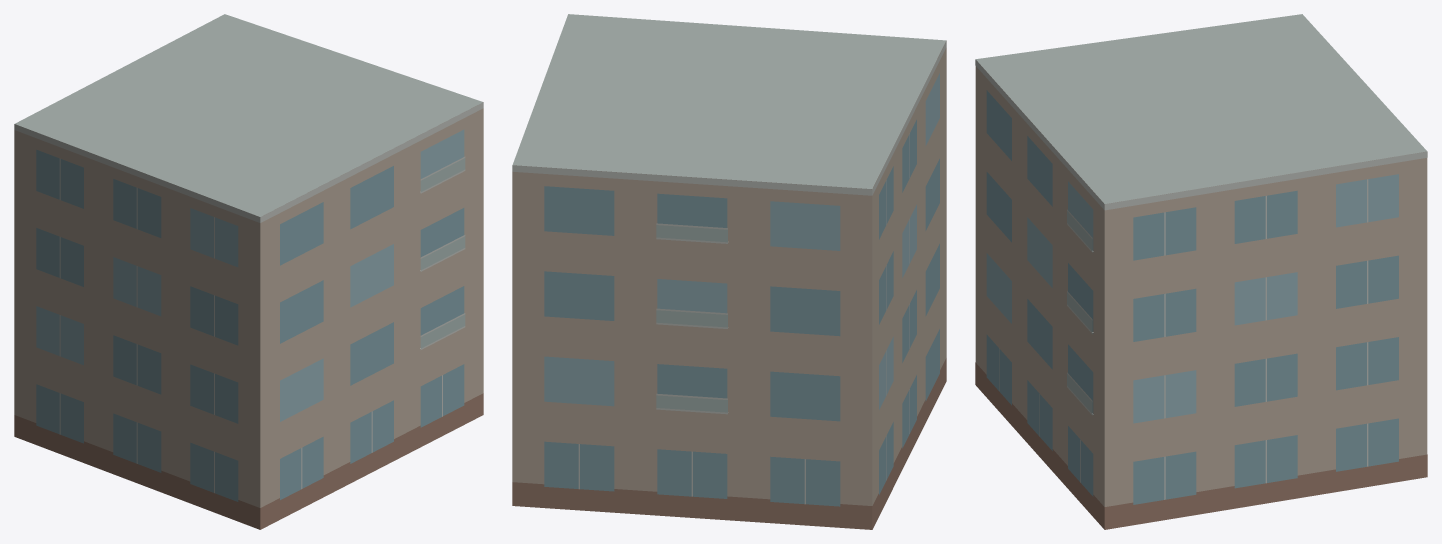
Rendered from survey-upis-33023421.glb.
3 renders of one model, left to right at view 1: azimuth 30°, elevation 25°; view 2: azimuth 150°, elevation 25°; view 3: azimuth 270°, elevation 25°, orthographic. The views are drawn at different scales.
Parts seen in each view (by area): view 1: survey-upis-33023421.tmp; view 2: survey-upis-33023421.tmp; view 3: survey-upis-33023421.tmp.
Boxes of the visible parts, box(x1,y1,x2,y2) form: survey-upis-33023421.tmp: box(14, 14, 483, 529); survey-upis-33023421.tmp: box(512, 14, 946, 529); survey-upis-33023421.tmp: box(975, 14, 1427, 529).
Bounding box in the file's own units: 15.72 × 12.55 × 15.79.
